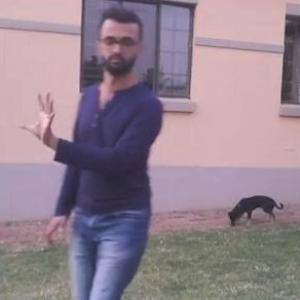follow_hand: (17, 86, 62, 145)
